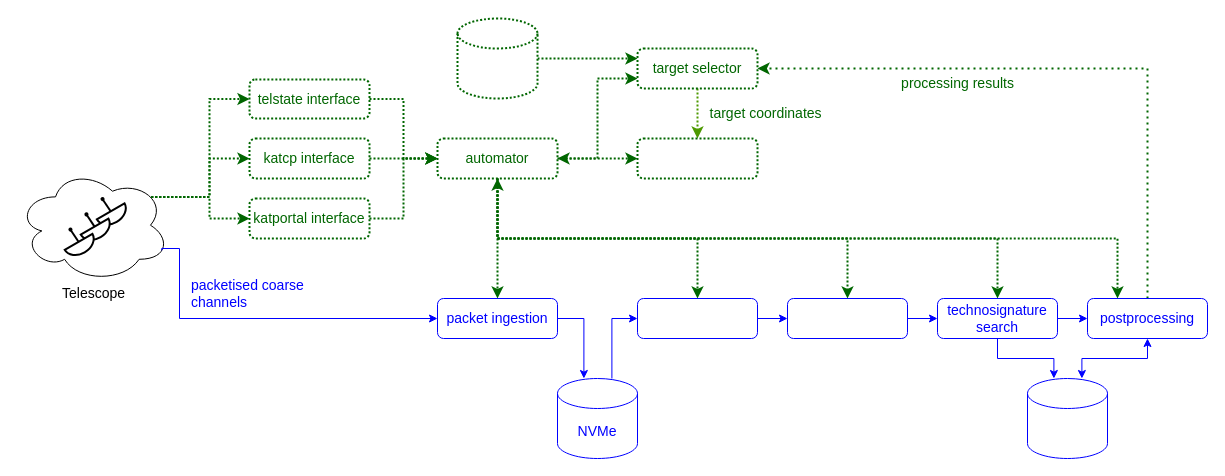
The diagram is 1225 pixels wide and 476 high, and some of its shapes have lost their labels. Here are the shapes that lost their labels. From the top down, the centre of each, then its label:
[497,58]: target DB
[697,158]: "recipe" generator
[697,318]: upchannelisation
[847,318]: beamforming
[1067,418]: Search Products
